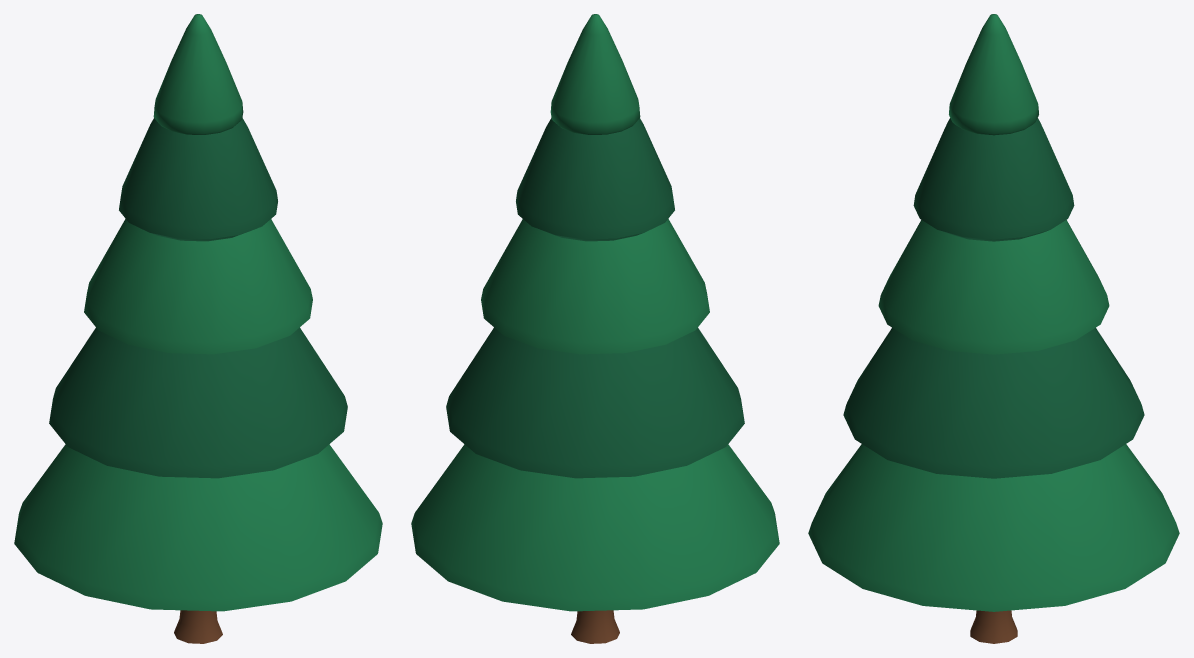
Rendered from pinheiro.glb.
3 views of the same model, side by side, from view 1: azimuth 30°, elevation 25°; view 2: azimuth 150°, elevation 25°; view 3: azimuth 270°, elevation 25° (orthographic).
Visible parts, largest first — view 1: pinheiro; view 2: pinheiro; view 3: pinheiro.
Boxes of the visible parts, box(x1,y1,x2,y2) form: pinheiro: box(14, 14, 382, 643); pinheiro: box(411, 14, 779, 643); pinheiro: box(808, 14, 1179, 643).
Bounding box in the file's own units: 3.7 × 6.8 × 3.7.
Materials: 1 (1 with a texture image).
